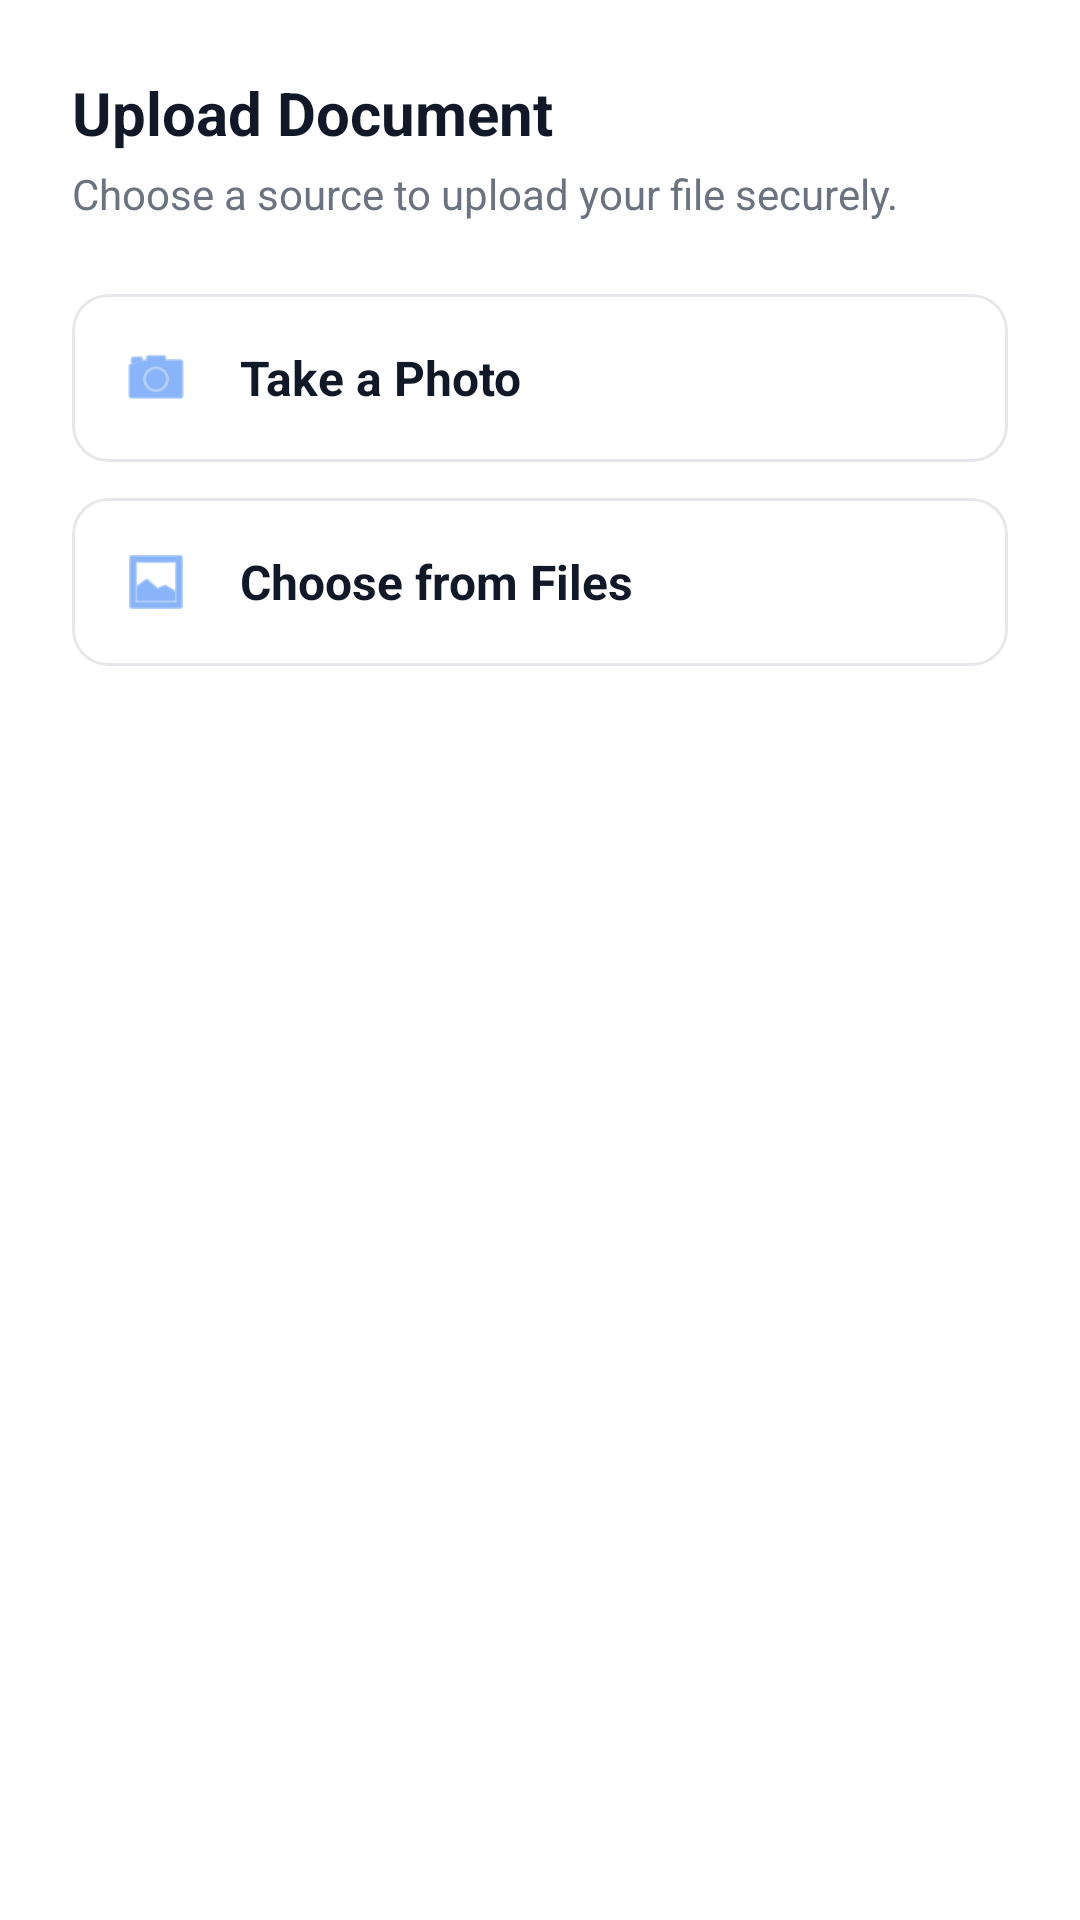

Named icons in this screenshot (1080*1920) and their centers, point (x, y):
camera: point (156, 377)
gallery: point (156, 582)
